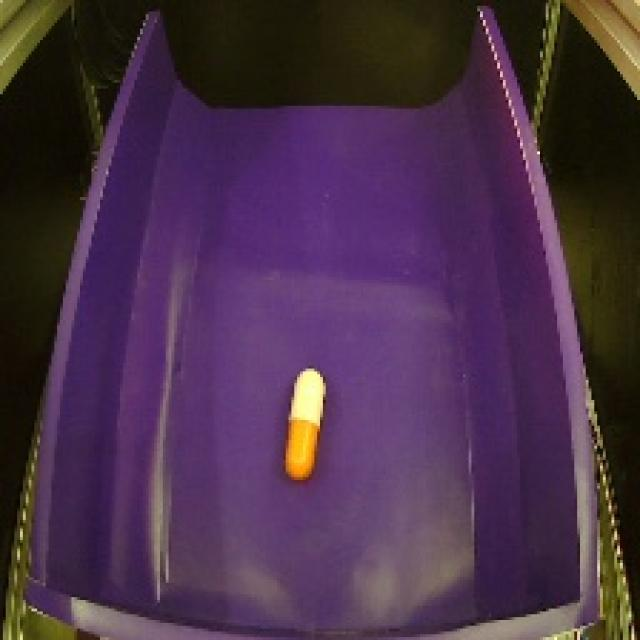small: (280, 354, 330, 487)
